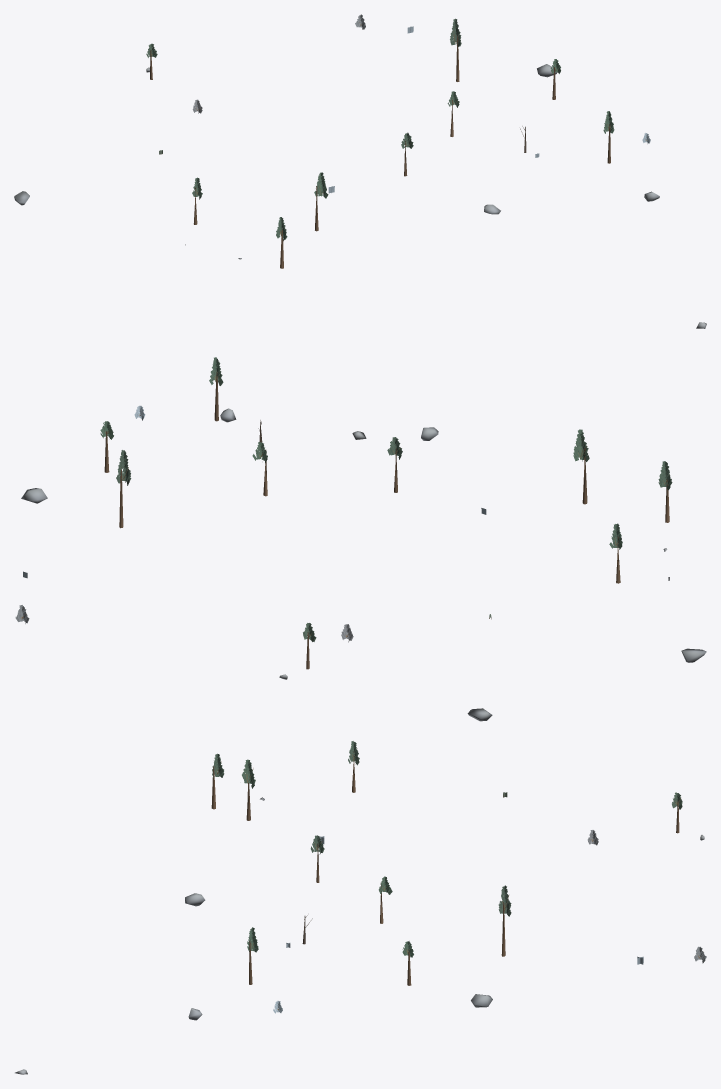
Rendered from frost_land_scatter_c18_13_lod1.glb.
3 renders of one model, top to bottom at view 1: azimuth 30°, elevation 25°; view 2: azimuth 150°, elevation 25°; view 3: azimuth 270°, elevation 25°, orthographic. The views are drawn at different scales.
Visible parts, largest first — view 1: frost_land_scatter_c18_13_lod1; view 2: frost_land_scatter_c18_13_lod1; view 3: frost_land_scatter_c18_13_lod1.
Part boxes in pixels (box(x1,y1,x2,y2)): frost_land_scatter_c18_13_lod1: box(14, 14, 706, 328); frost_land_scatter_c18_13_lod1: box(15, 357, 706, 679); frost_land_scatter_c18_13_lod1: box(15, 708, 706, 1074).
Bounding box in the file's own units: 109 × 29.87 × 108.
